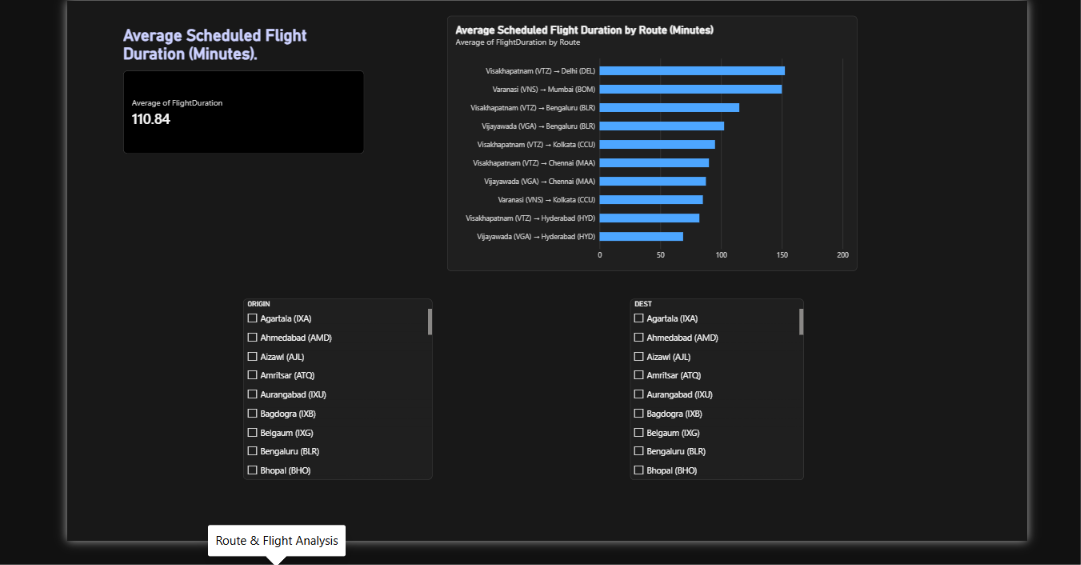

What the dashboard file says about the page in this screenshot:
{"tool":"powerbi","page":{"name":"Route & Flight Analysis","canvas":[1920,1080],"ordinal":1},"visuals":[{"type":"clusteredBarChart","title":"Average Scheduled Flight Duration by Route (Minutes)","fields":{"Category":["indigo_database flight_data.Route"],"Y":["Avg(indigo_database flight_data.FlightDuration)"]},"box":[760,30,820,510],"z":0},{"type":"slicer","fields":{"Values":["indigo_database flight_data.ORIGIN"]},"box":[352.5,595,378.3,361.7],"z":2},{"type":"slicer","fields":{"Values":["indigo_database flight_data.DEST"]},"box":[1125,595,347,362],"z":3},{"type":"cardVisual","title":"Average Scheduled Flight Duration (Minutes).","fields":{"Data":["Avg(indigo_database flight_data.FlightDuration)"]},"box":[112,50,482,256],"z":4}]}

Visuals, with their boxes on the page's 1920x1080 design canvas (x1, y1, x2, y2). These are canvas units, not pixel positions in the 1081x565 screenshot, which may show the page scaled, cropped or inside an application window:
"Average Scheduled Flight Duration by Route (Minutes)" clusteredBarChart: 760,30,1580,540
slicer - indigo_database flight_data.ORIGIN: 352,595,731,957
slicer - indigo_database flight_data.DEST: 1125,595,1472,957
"Average Scheduled Flight Duration (Minutes)." cardVisual: 112,50,594,306
